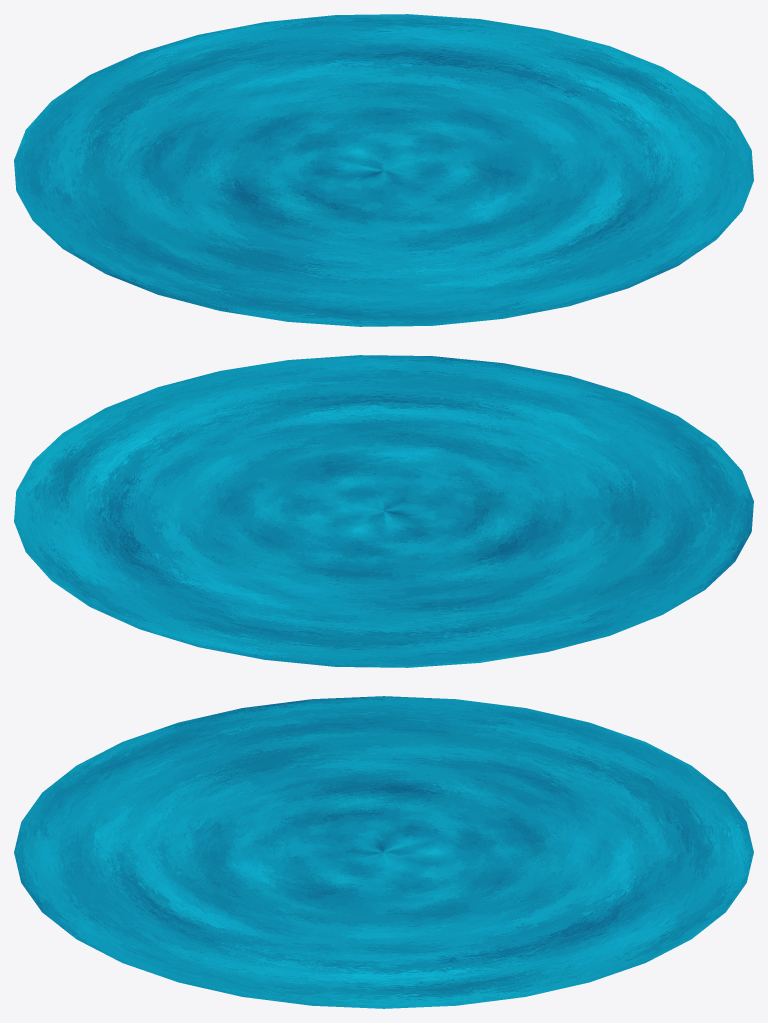
Rendered from Water_Circle_2_Midpoly.glb.
3 renders of one model, top to bottom at view 1: azimuth 30°, elevation 25°; view 2: azimuth 150°, elevation 25°; view 3: azimuth 270°, elevation 25°, orthographic.
Parts seen in each view (by area): view 1: Water_Circle_2_Midpoly; view 2: Water_Circle_2_Midpoly; view 3: Water_Circle_2_Midpoly.
Boxes of the visible parts, bbox=[...] form: Water_Circle_2_Midpoly: bbox=[14, 14, 753, 326]; Water_Circle_2_Midpoly: bbox=[14, 355, 753, 667]; Water_Circle_2_Midpoly: bbox=[14, 696, 753, 1008].
Bounding box in the file's own units: 4080 × 1.3e-05 × 4080.
Materials: 1 (1 with a texture image).
